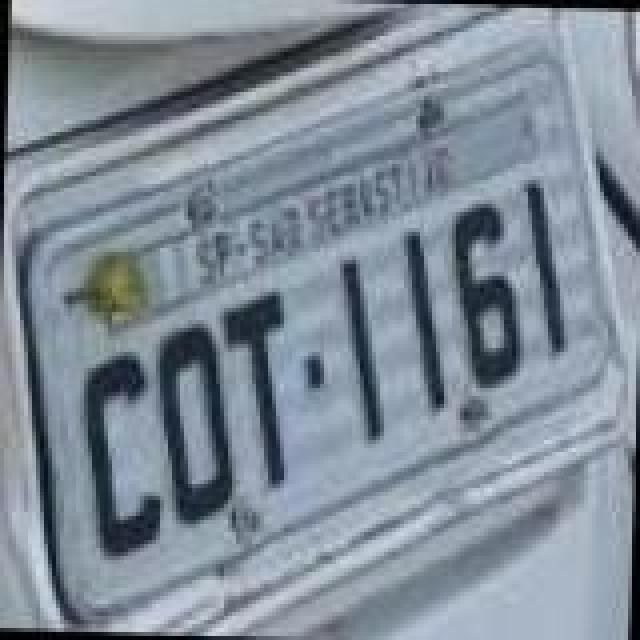1: (394, 228, 454, 412), (332, 258, 388, 446), (520, 176, 576, 352)
6: (446, 202, 530, 390)
C: (76, 352, 172, 560)
O: (150, 320, 242, 528)
T: (216, 290, 296, 486)
